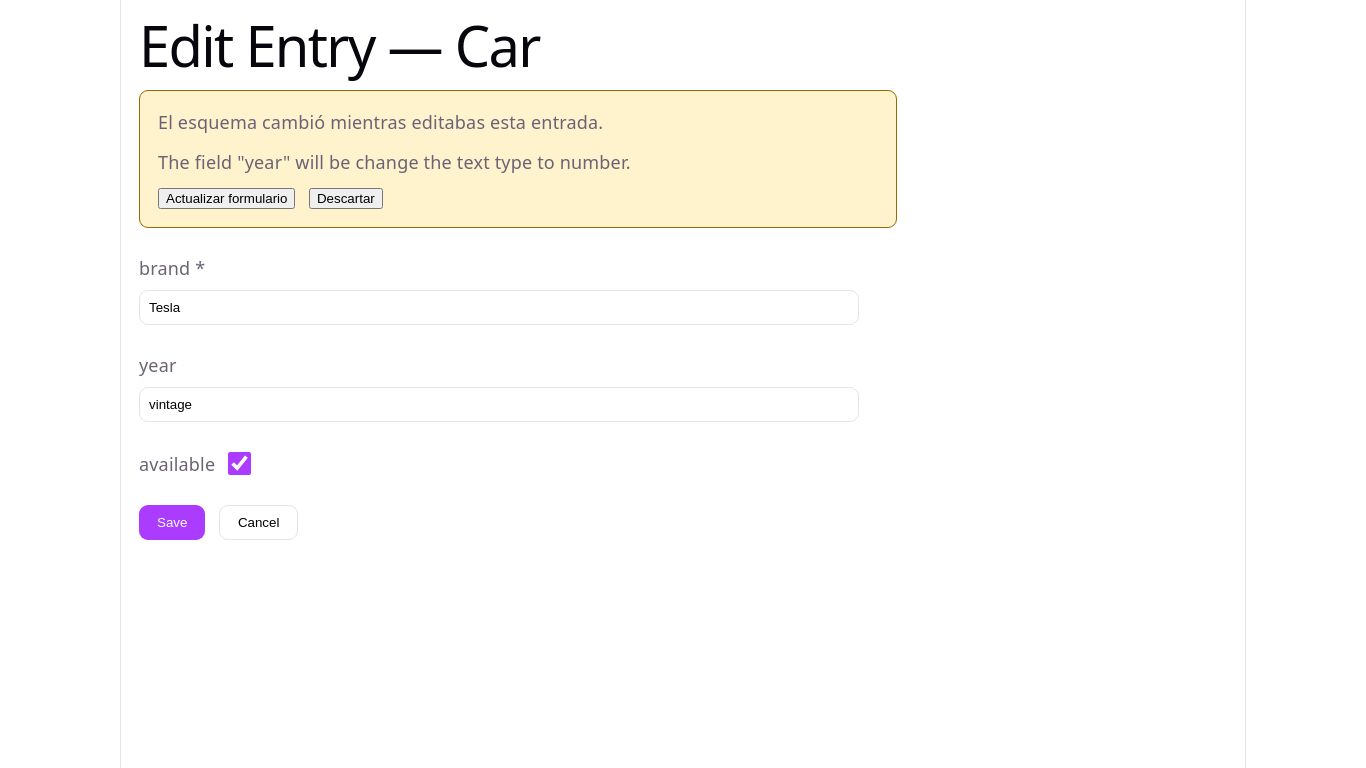
Scenario: EntryEditorPage — mid-edit schema.updated (6.5) › reconciling a non-coercible retype keeps the value and flags it for manual fix
This screenshot has width=1366, height=768.
Expected: the field named "brand" is shown, [139,290,859,325]
Click the button "Actualizar formulario" at (227,199), box [158,188,296,209]
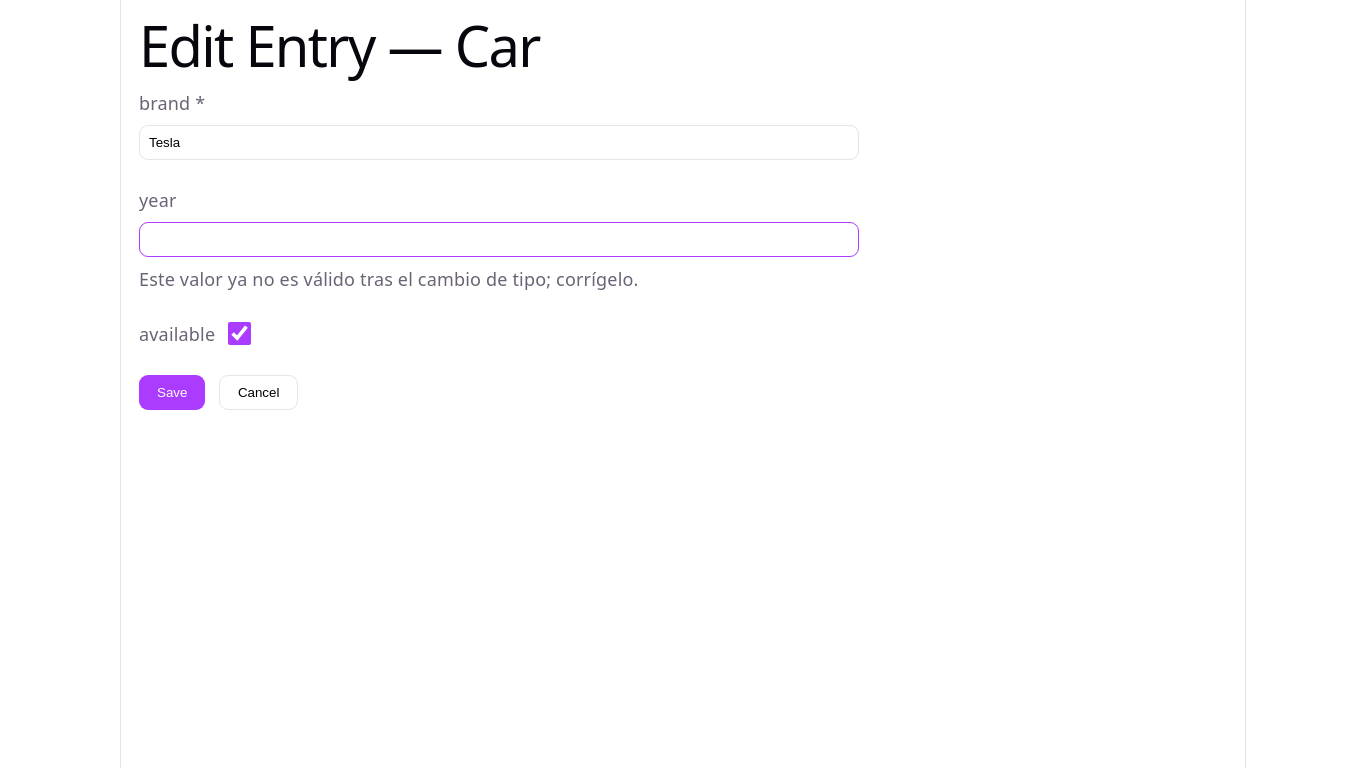
Expected: the text "Este valor ya no es válido tras el cambio de tipo; corrígelo." is shown, [139,267,638,291]
